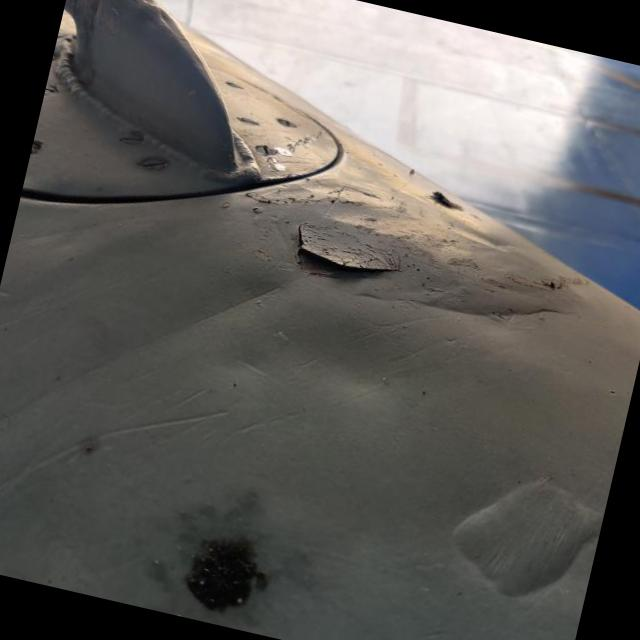Crack: (291, 214, 410, 286)
Dent: (267, 308, 433, 416)
